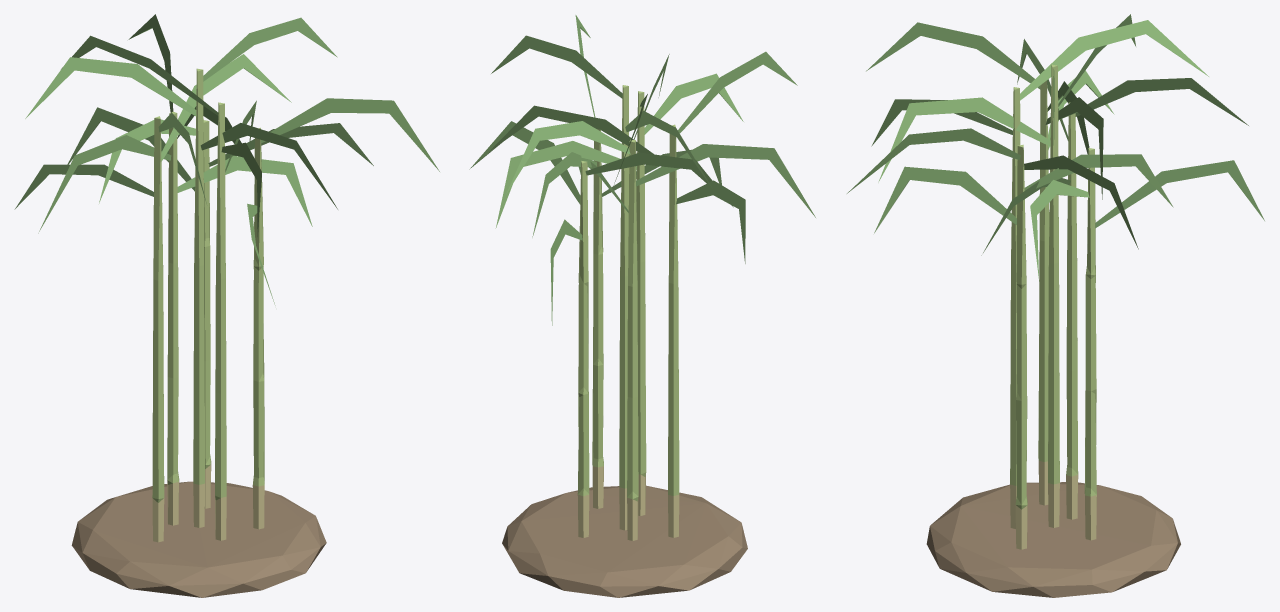
The model's file is 33-Agricultura_canaveral.glb.
3 renders of one model, left to right at view 1: azimuth 30°, elevation 25°; view 2: azimuth 150°, elevation 25°; view 3: azimuth 270°, elevation 25°, orthographic. The views are drawn at different scales.
Visible parts, largest first — view 1: SM_Canaveral_M_Canaveral_Verde_Canaveral_Nudo_Canaveral_Seco, SM_Canaveral_M_Canaveral_Tierra; view 2: SM_Canaveral_M_Canaveral_Verde_Canaveral_Nudo_Canaveral_Seco, SM_Canaveral_M_Canaveral_Tierra; view 3: SM_Canaveral_M_Canaveral_Verde_Canaveral_Nudo_Canaveral_Seco, SM_Canaveral_M_Canaveral_Tierra.
Boxes of the visible parts, x1=… form: SM_Canaveral_M_Canaveral_Verde_Canaveral_Nudo_Canaveral_Seco: x1=14, y1=14, x2=439, y2=542; SM_Canaveral_M_Canaveral_Tierra: x1=71, y1=481, x2=326, y2=597; SM_Canaveral_M_Canaveral_Verde_Canaveral_Nudo_Canaveral_Seco: x1=469, y1=15, x2=815, y2=540; SM_Canaveral_M_Canaveral_Tierra: x1=502, y1=485, x2=747, y2=597; SM_Canaveral_M_Canaveral_Verde_Canaveral_Nudo_Canaveral_Seco: x1=847, y1=14, x2=1264, y2=549; SM_Canaveral_M_Canaveral_Tierra: x1=926, y1=482, x2=1180, y2=597.
Size of the model in its own units: 1.75 by 2.41 by 1.82.
